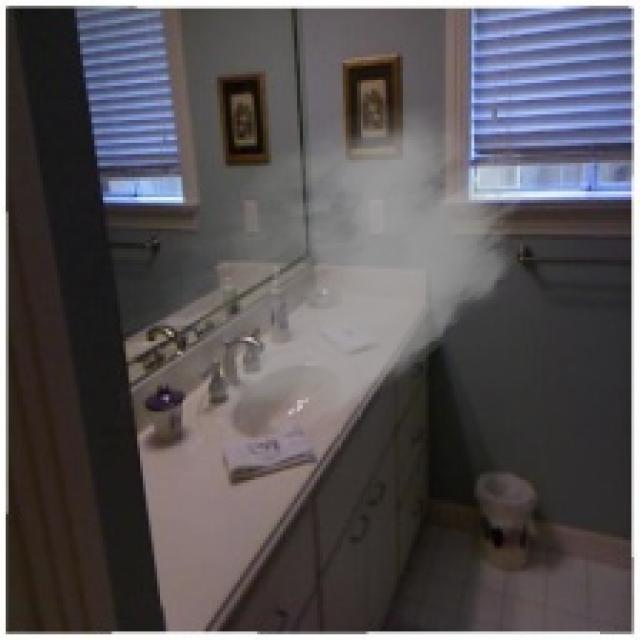smoke: (120, 89, 540, 457)
